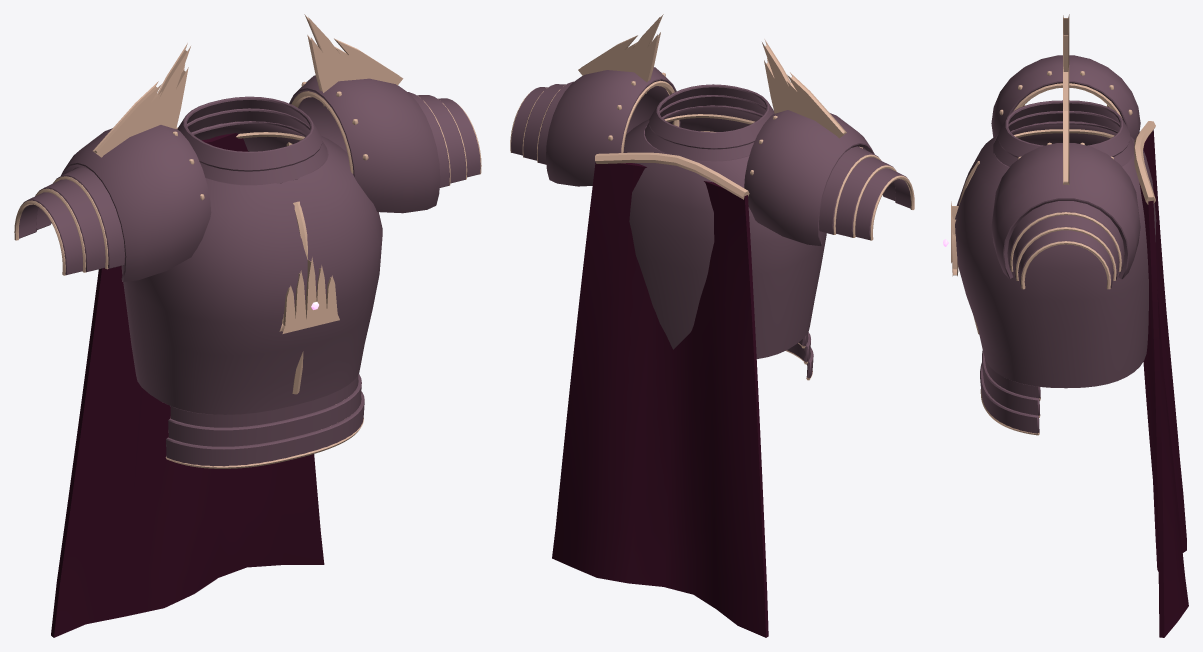
Rendered from asc_aeonbreaker_armor.glb.
3 renders of one model, left to right at view 1: azimuth 30°, elevation 25°; view 2: azimuth 150°, elevation 25°; view 3: azimuth 270°, elevation 25°, orthographic. The views are drawn at different scales.
Parts seen in each view (by area): view 1: asc_aeonbreaker_armor, AT_upper_arm_R, AT_upper_arm_L; view 2: asc_aeonbreaker_armor, AT_upper_arm_R, AT_upper_arm_L; view 3: asc_aeonbreaker_armor, AT_upper_arm_L, AT_upper_arm_R.
Boxes of the visible parts, x1=… form: asc_aeonbreaker_armor: x1=51, y1=96, x2=382, y2=637; AT_upper_arm_R: x1=14, y1=43, x2=211, y2=281; AT_upper_arm_L: x1=286, y1=14, x2=481, y2=213; asc_aeonbreaker_armor: x1=552, y1=84, x2=862, y2=637; AT_upper_arm_R: x1=744, y1=39, x2=914, y2=246; AT_upper_arm_L: x1=510, y1=14, x2=680, y2=186; asc_aeonbreaker_armor: x1=943, y1=100, x2=1188, y2=637; AT_upper_arm_L: x1=991, y1=65, x2=1140, y2=289; AT_upper_arm_R: x1=991, y1=14, x2=1140, y2=139.
Bounding box in the file's own units: 0.9688 × 1.38 × 0.5511.
